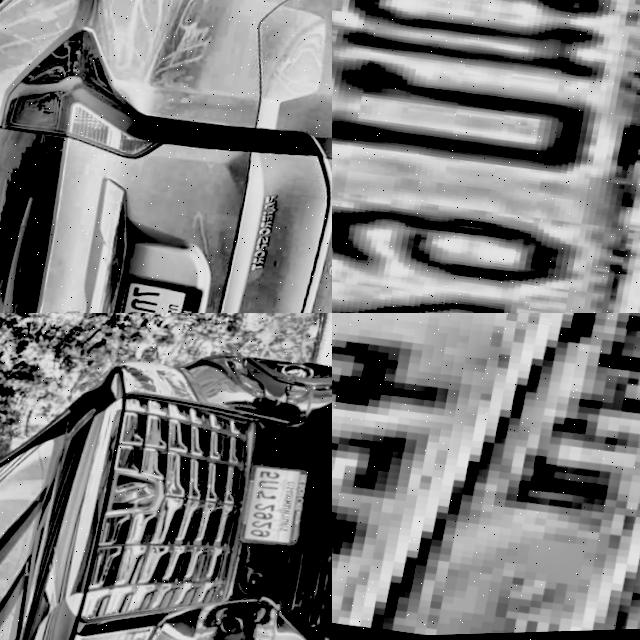license-plate: (332, 313, 640, 640), (332, 0, 640, 313), (237, 464, 316, 553), (102, 272, 201, 313)
